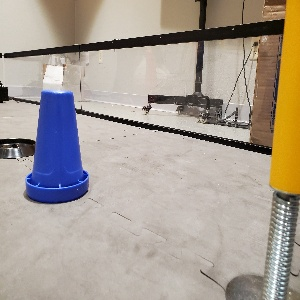Blue_1: (24, 89, 88, 203)
